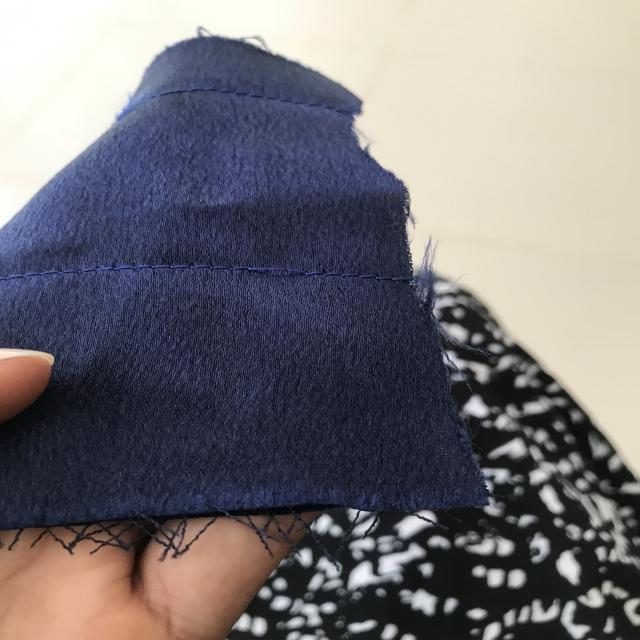skip: (215, 256, 328, 296)
